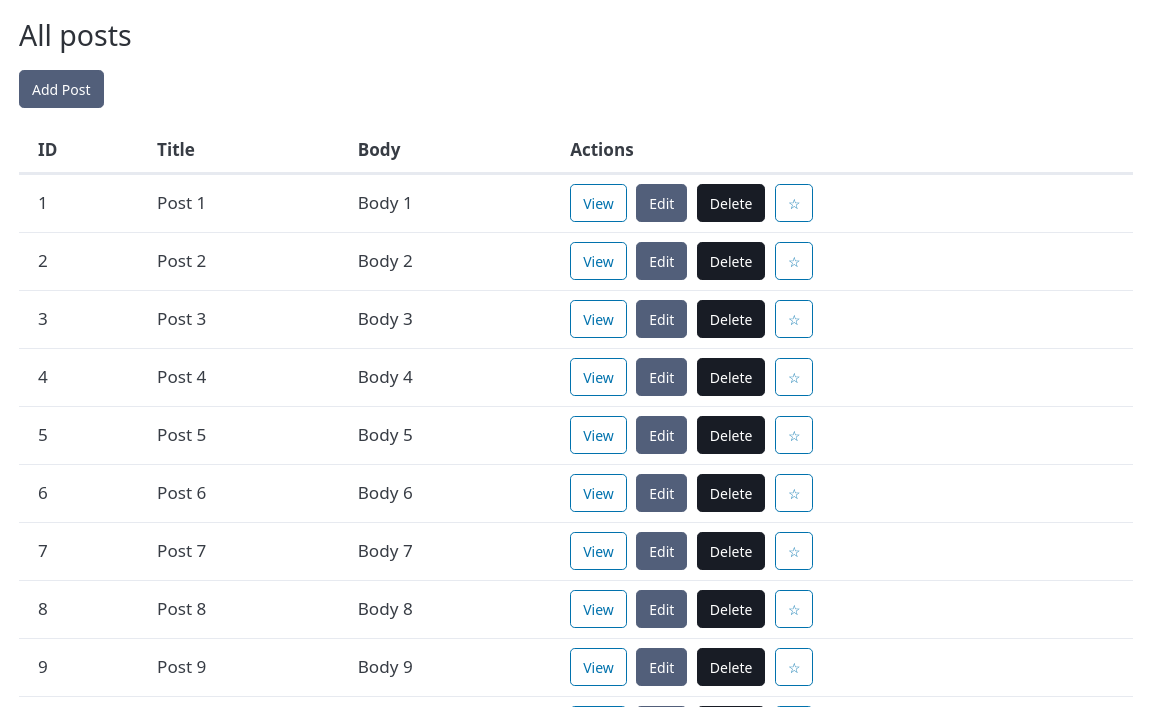
Test: PostsPage Component › Modal Interactions › view modal opens correctly
Expected: the text "Post 1" is shown, [138,175,339,232]
Click the 1st button "View": (598, 203) [570,184,627,222]
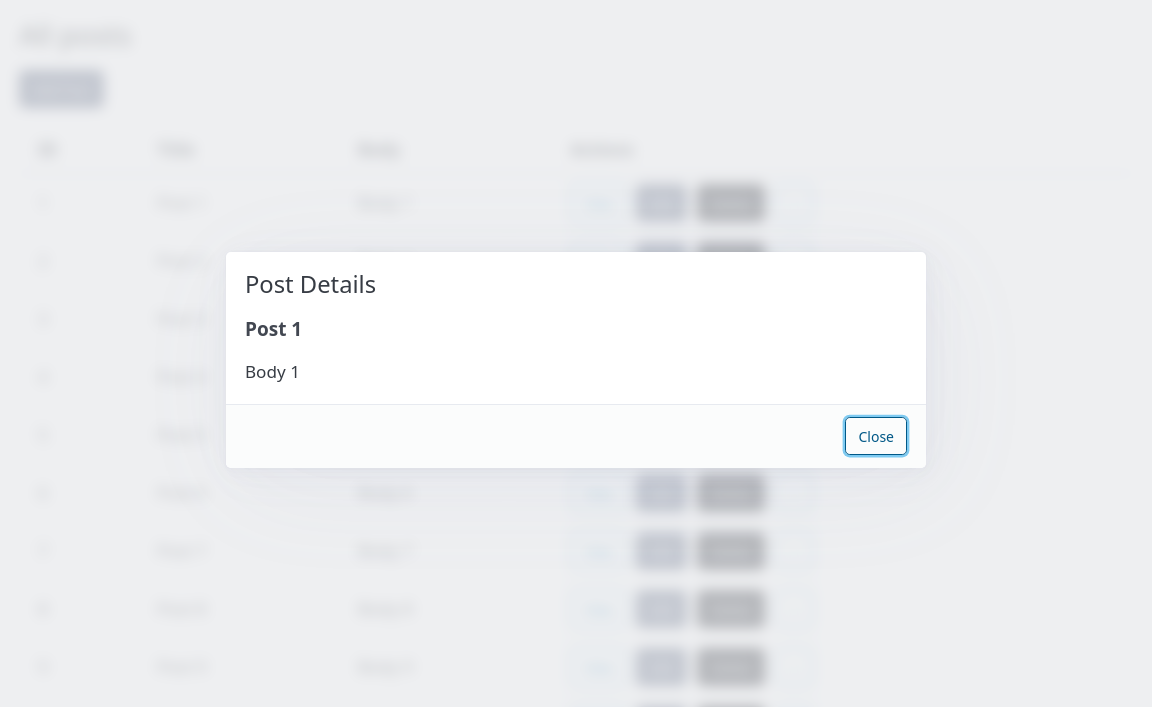
Expected: the heading "Post Details" is shown, [245,268,376,300]
Expected: the heading "Post 1" is shown, [245,316,302,342]
Expected: the text "Body 1" is shown, [245,360,300,383]
